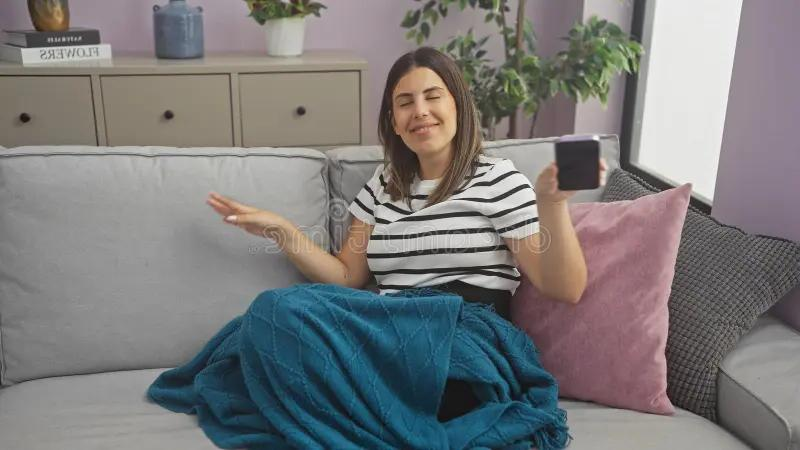blanket: (147, 284, 575, 450)
short sleeve shirt: (346, 153, 541, 300)
